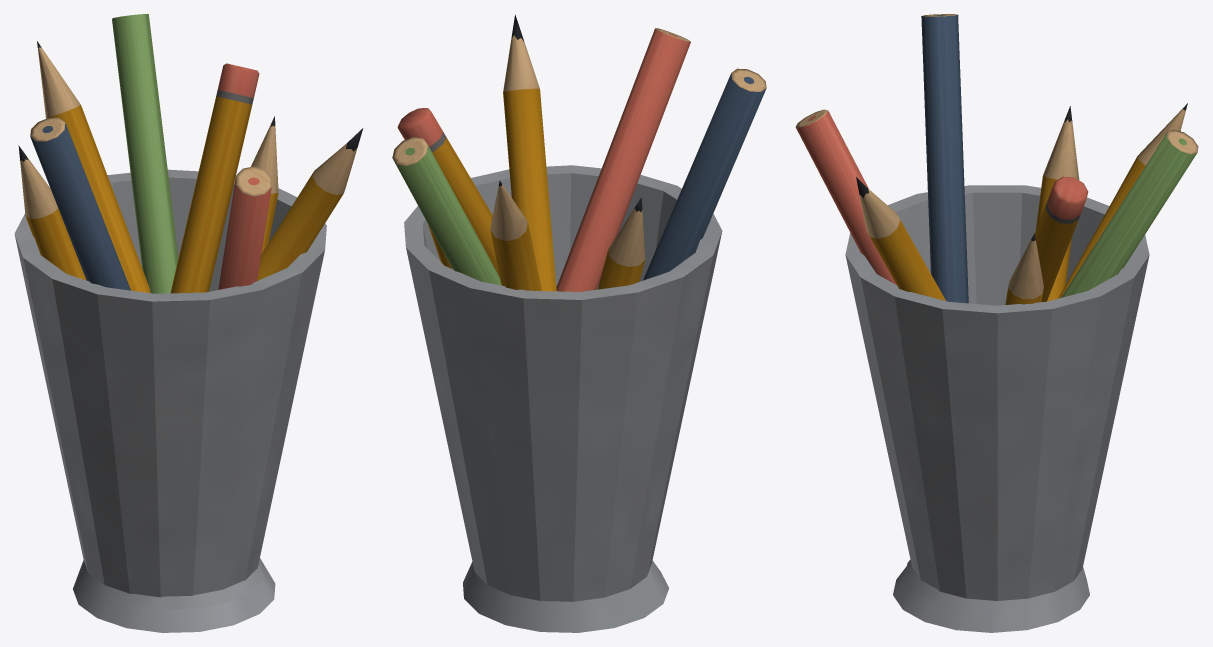
Rendered from lapiz.fbx.
3 views of the same model, side by side, from view 1: azimuth 30°, elevation 25°; view 2: azimuth 150°, elevation 25°; view 3: azimuth 270°, elevation 25° (orthographic). The views are drawn at different scales.
Parts seen in each view (by area): view 1: Lapicero; view 2: Lapicero; view 3: Lapicero.
Boxes of the visible parts, left/top/right/bottom form: Lapicero: left=14, top=14, right=363, bottom=632; Lapicero: left=392, top=14, right=766, bottom=632; Lapicero: left=795, top=14, right=1198, bottom=632.
Bounding box in the file's own units: 19.74 × 32.46 × 23.3.
